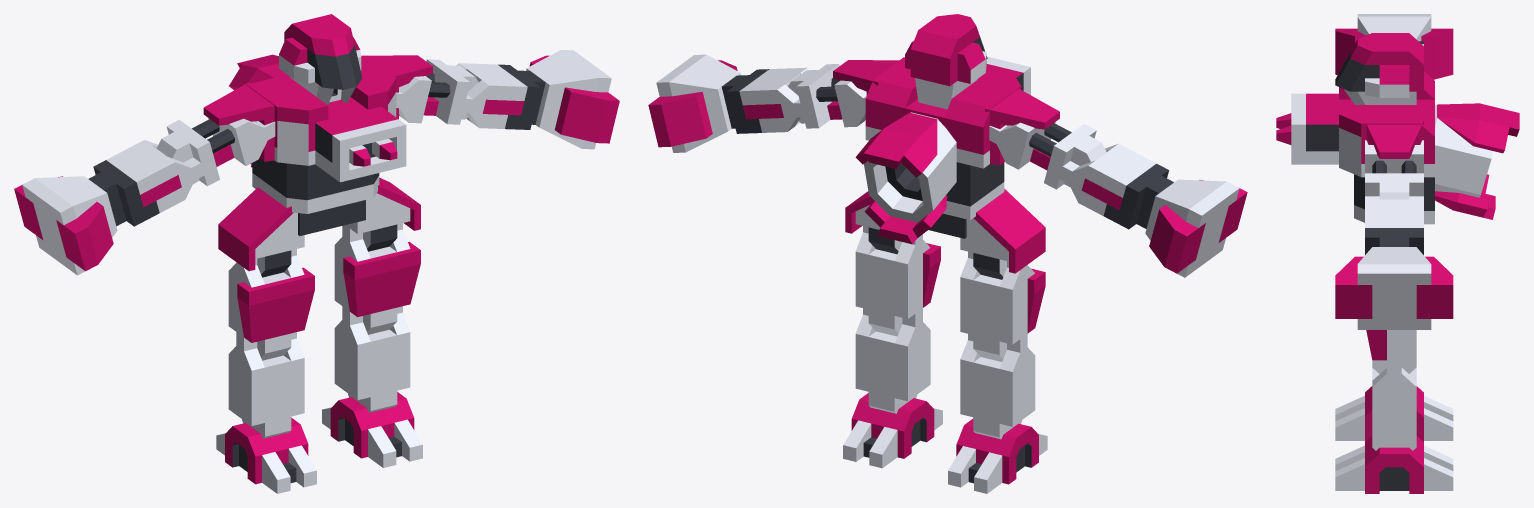
File: MechA.fbx
3 views of the same model, side by side, from view 1: azimuth 30°, elevation 25°; view 2: azimuth 150°, elevation 25°; view 3: azimuth 270°, elevation 25° (orthographic). The views are drawn at different scales.
Visible parts, largest first — view 1: pelvis_square (×2), leg_padding (×2), chest_body, leg_default (×2), leg_painted (×2), foot_claw (×2), pelvis_jointSlant (×2), leg_pipes (×2), weapon_turretSmall, head_marine, foot_top (×2), turbine_flaps (+1 smaller); view 2: pelvis_square (×2), leg_padding (×2), leg_default (×2), leg_painted (×2), chest_body, turbine_flaps, foot_claw (×2), leg_pipes (×2), pelvis_jointSlant (×2), head_marine, foot_top (×2), hull_topIntake (+1 smaller); view 3: pelvis_square (×2), foot_claw (×2), turbine_flaps, chest_body, head_marine, weapon_turretSmall, leg_default, leg_painted, leg_pipes, leg_padding, foot_top, hull_topIntake.
Boxes of the visible parts, box(x1,y1,x2,y2) form: pelvis_square (×2): box(14, 50, 619, 275); leg_padding (×2): box(228, 223, 420, 360); chest_body: box(246, 55, 396, 235); leg_default (×2): box(228, 306, 410, 438); leg_painted (×2): box(88, 63, 545, 226); foot_claw (×2): box(216, 392, 422, 493); pelvis_jointSlant (×2): box(218, 177, 420, 277); leg_pipes (×2): box(156, 59, 478, 186); weapon_turretSmall: box(315, 106, 406, 182); head_marine: box(279, 14, 362, 89); foot_top (×2): box(203, 55, 432, 161); turbine_flaps: box(229, 54, 290, 167); pelvis_square (×2): box(648, 54, 1247, 277); leg_padding (×2): box(855, 226, 1045, 361); leg_default (×2): box(855, 308, 1035, 439); leg_painted (×2): box(721, 67, 1173, 229); chest_body: box(865, 57, 1021, 238); turbine_flaps: box(855, 112, 956, 244); foot_claw (×2): box(843, 393, 1047, 493); leg_pipes (×2): box(788, 64, 1106, 189); pelvis_jointSlant (×2): box(845, 189, 1045, 279); head_marine: box(905, 14, 987, 86); foot_top (×2): box(833, 60, 1059, 165); hull_topIntake: box(915, 78, 977, 109); pelvis_square (×2): box(1335, 14, 1453, 329); foot_claw (×2): box(1335, 386, 1453, 493); turbine_flaps: box(1435, 103, 1519, 219); chest_body: box(1339, 71, 1434, 224); head_marine: box(1335, 33, 1423, 97); weapon_turretSmall: box(1276, 93, 1338, 164); leg_default: box(1372, 360, 1416, 450); leg_painted: box(1365, 196, 1423, 254); leg_pipes: box(1365, 140, 1423, 199); leg_padding: box(1366, 330, 1416, 373); foot_top: box(1366, 120, 1423, 158); hull_topIntake: box(1344, 89, 1416, 104).
Bounding box in the file's own units: 41.66 × 31 × 16.49.
